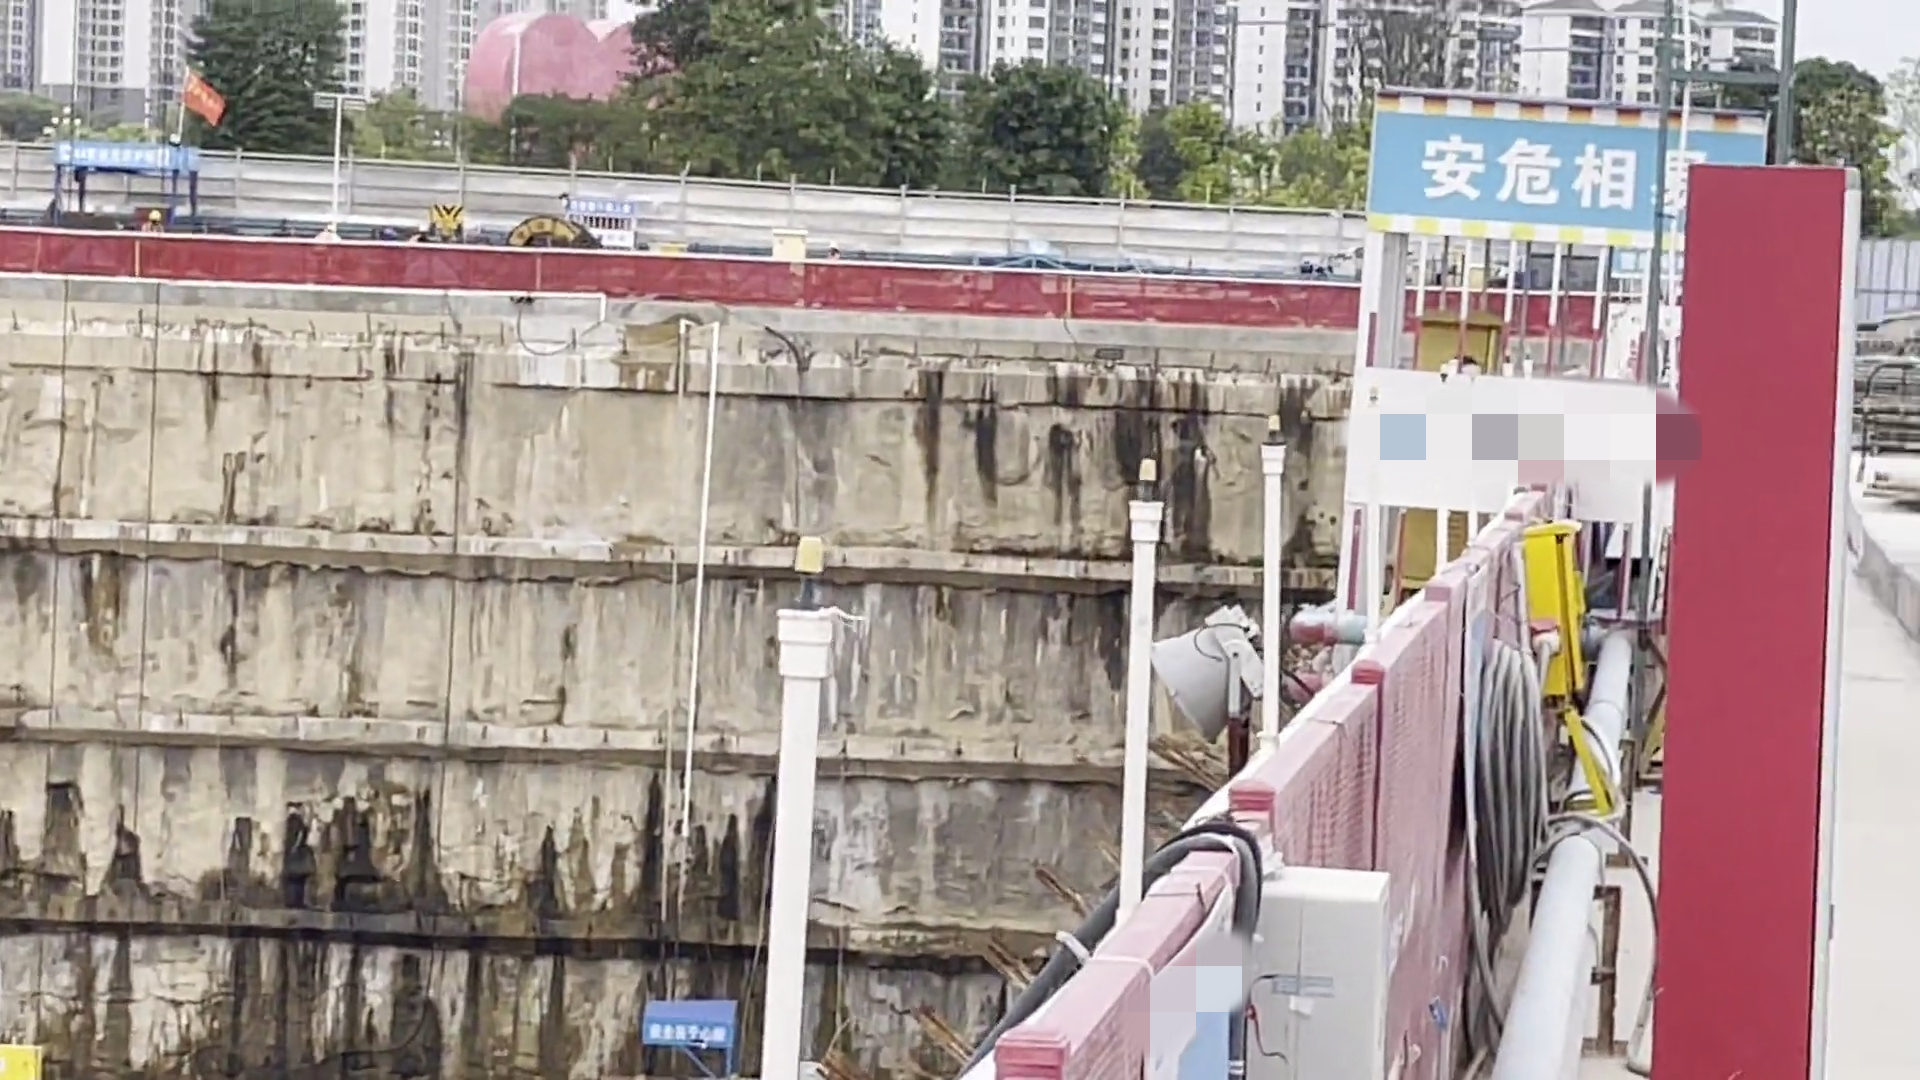ebox: (1516, 518, 1624, 836)
fence: (951, 453, 1529, 1080), (19, 203, 1381, 367)
helmet: (145, 208, 173, 225)
person: (115, 201, 186, 264)
slogan: (1422, 109, 1729, 220), (56, 136, 191, 173), (643, 1011, 734, 1051), (175, 64, 224, 130), (561, 191, 643, 220)
vest: (131, 224, 194, 248)
